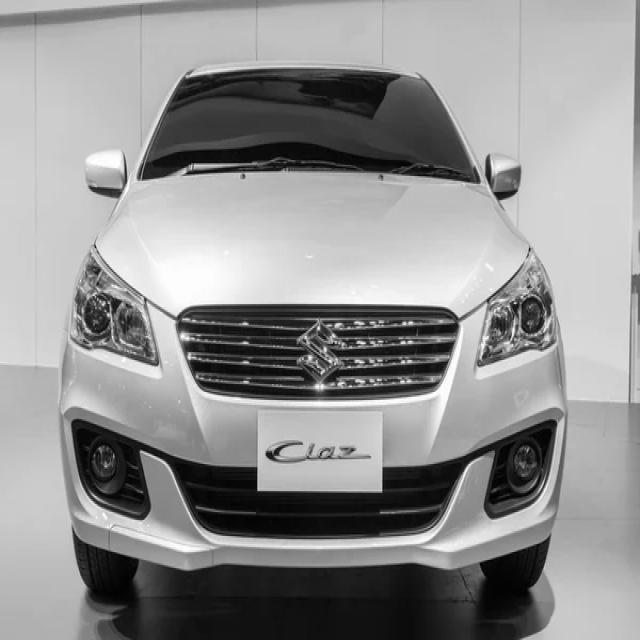Car: (59, 62, 568, 594)
